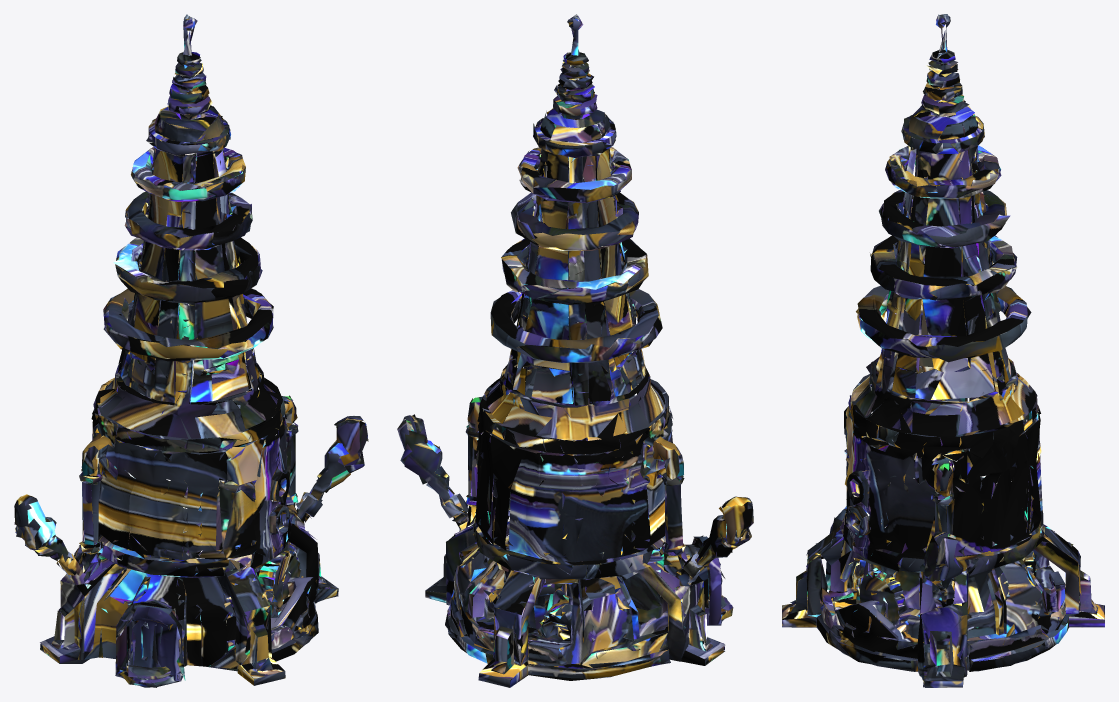
The model's file is tower_tesla_3d_LOD1.fbx.
3 renders of one model, left to right at view 1: azimuth 30°, elevation 25°; view 2: azimuth 150°, elevation 25°; view 3: azimuth 270°, elevation 25°, orthographic.
Parts seen in each view (by area): view 1: Mesh1.0; view 2: Mesh1.0; view 3: Mesh1.0.
Part boxes in pixels (box(x1,y1,x2,y2)): Mesh1.0: box(14, 14, 368, 687); Mesh1.0: box(397, 14, 753, 687); Mesh1.0: box(782, 14, 1104, 687).
Size of the model in its own units: 75.91 by 126 by 60.33.
